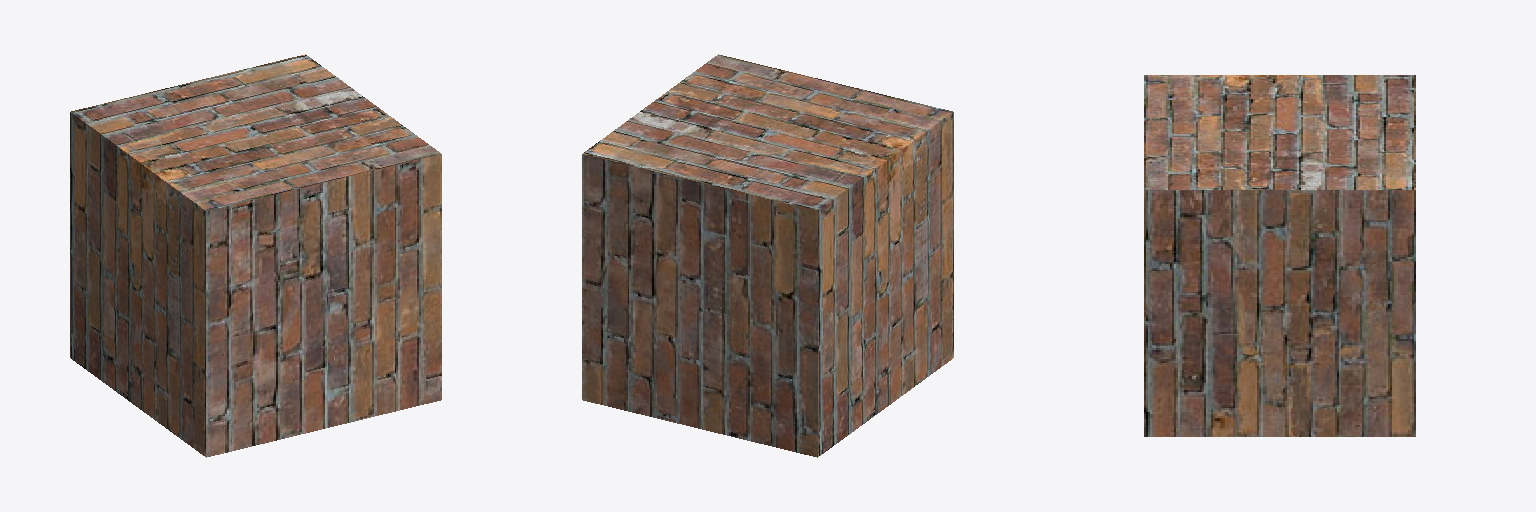
3 views of the same model, side by side, from view 1: azimuth 30°, elevation 25°; view 2: azimuth 150°, elevation 25°; view 3: azimuth 270°, elevation 25° (orthographic).
Parts seen in each view (by area): view 1: Cube; view 2: Cube; view 3: Cube.
Part boxes in pixels (left/top/right/bottom): Cube: left=70, top=54, right=441, bottom=457; Cube: left=582, top=54, right=953, bottom=457; Cube: left=1144, top=75, right=1415, bottom=436.
Size of the model in its own units: 2 by 2 by 2.
1 materials, 1 textured.